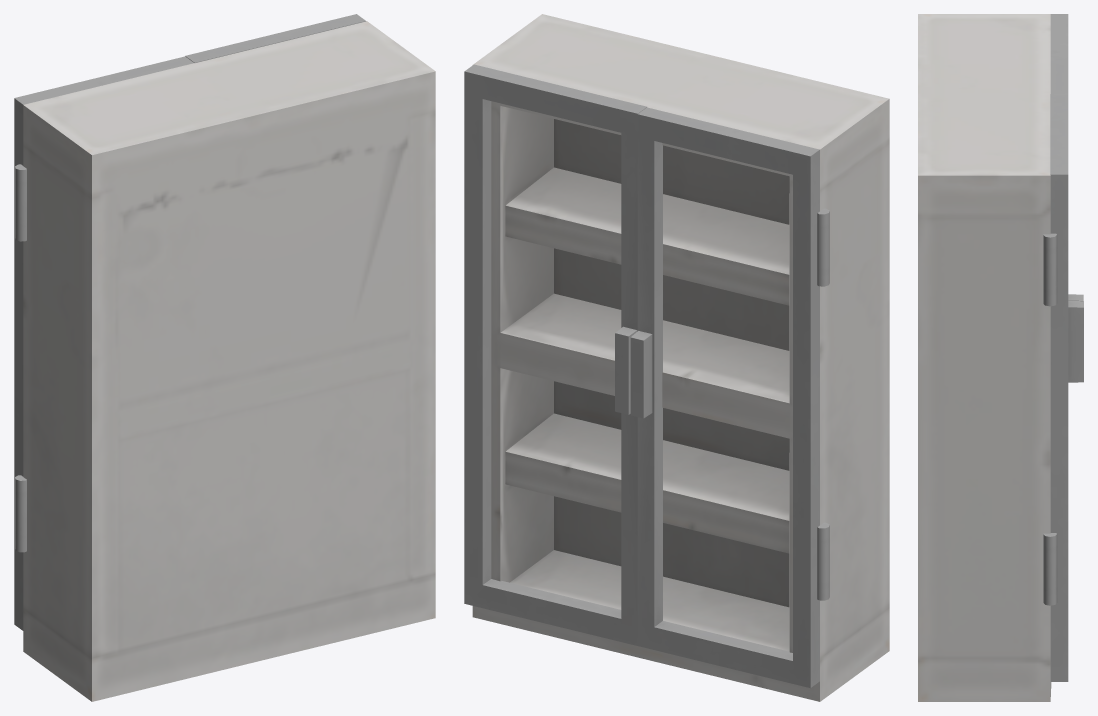
File: Pfb_Indoors_Study_Shelf_JLAB04__2.fbx
The picture shows the model from 3 angles, left to right: view 1: azimuth 30°, elevation 25°; view 2: azimuth 150°, elevation 25°; view 3: azimuth 270°, elevation 25°; orthographic projection. The views are drawn at different scales.
Visible parts, largest first — view 1: Mat_Indoors_Study_01_2_JLAB, MAT_Shop_Refridge_01_JLAB; view 2: Mat_Indoors_Study_01_2_JLAB, MAT_Shop_Refridge_01_JLAB; view 3: Mat_Indoors_Study_01_2_JLAB, MAT_Shop_Refridge_01_JLAB.
Part boxes in pixels (bbox=[...]): Mat_Indoors_Study_01_2_JLAB: bbox=[23, 21, 435, 701]; MAT_Shop_Refridge_01_JLAB: bbox=[14, 14, 365, 630]; Mat_Indoors_Study_01_2_JLAB: bbox=[472, 14, 889, 701]; MAT_Shop_Refridge_01_JLAB: bbox=[464, 64, 829, 687]; Mat_Indoors_Study_01_2_JLAB: bbox=[918, 14, 1051, 701]; MAT_Shop_Refridge_01_JLAB: bbox=[1043, 14, 1083, 681].
Bounding box in the file's own units: 1.84 × 2.69 × 0.7657.
Materials: 2 (2 with a texture image).
